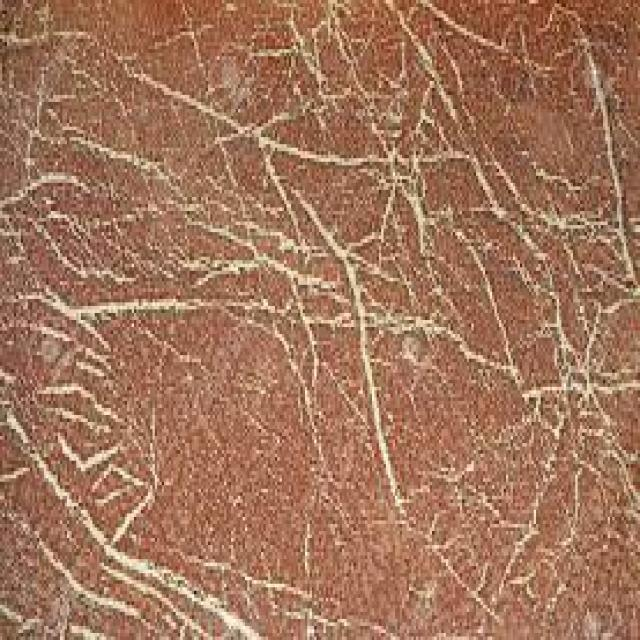Rotten surface: (240, 44, 558, 314), (31, 337, 228, 616)
